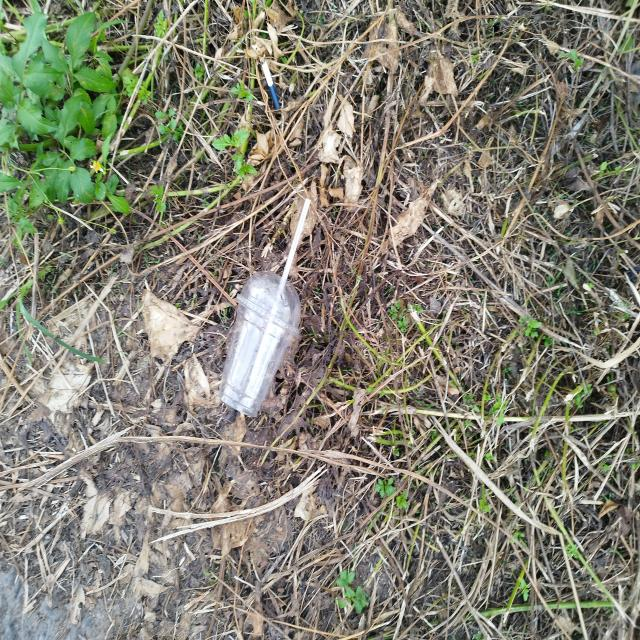drinking straw: (282, 198, 311, 278)
plastic glass: (219, 270, 300, 417)
